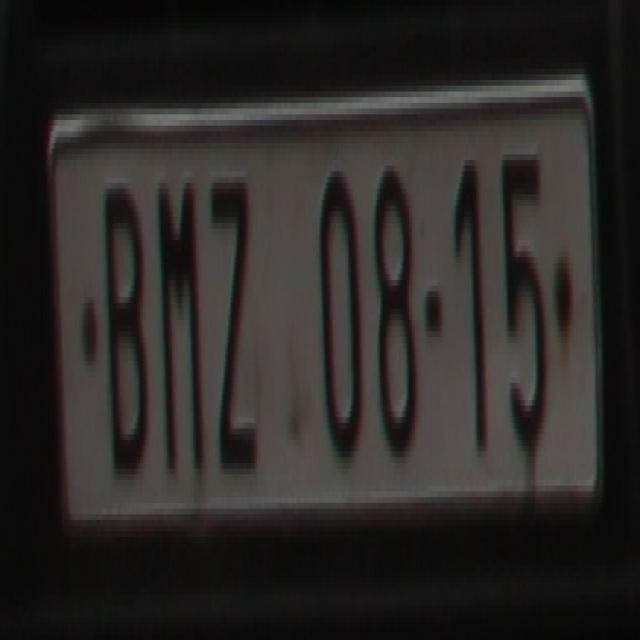0: (316, 165, 366, 468)
1: (454, 154, 494, 463)
5: (500, 131, 547, 440)
8: (369, 165, 421, 468)
B: (101, 171, 148, 463)
M: (154, 177, 206, 480)
Z: (213, 171, 260, 480)
